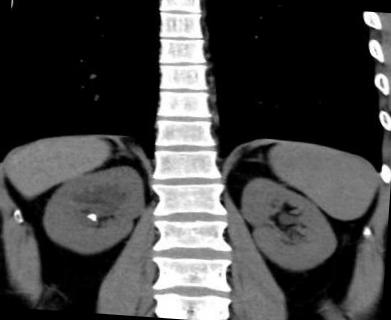Tas_Var: (82, 211, 101, 223)
